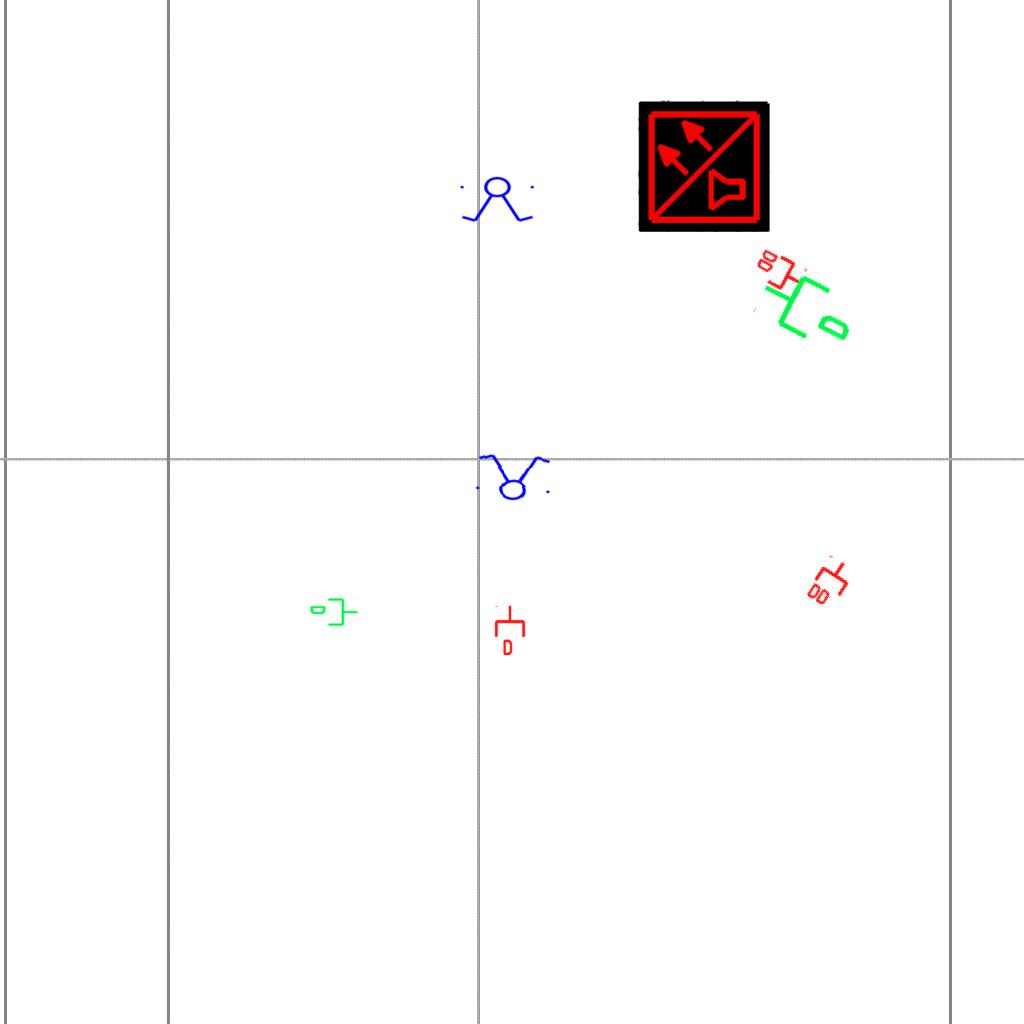Datenanschluss_einfach: (748, 253, 869, 361), (309, 596, 359, 630), (493, 605, 527, 655)
Datenanschluss_zweifach: (802, 552, 860, 615), (748, 245, 810, 300)
OKW_Multisensormelder_(Kombination_optischer_Rauch-Kahlenmonoxid_Waerme-Melder): (638, 100, 770, 232)
Serienschalter: (469, 450, 557, 504), (456, 176, 540, 224)
